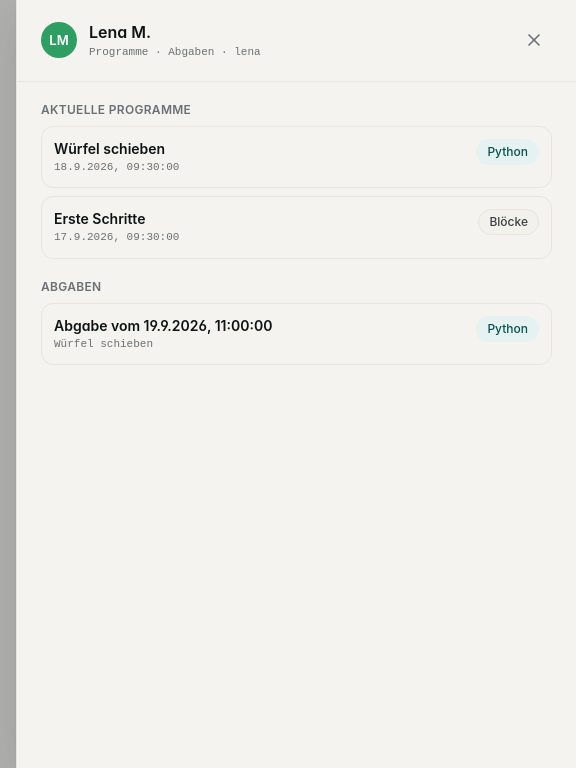
it: StudentProgramsDrawer — failures are German, never the raw message › a 404 on one program is its own German sentence
Expected: the element "Aktuelle Programme" is shown, [41,102,552,258]
Click the button "Würfel schieben 18.9.2026, 09:30:00 Python" at [110, 148], box [41,126,552,188]
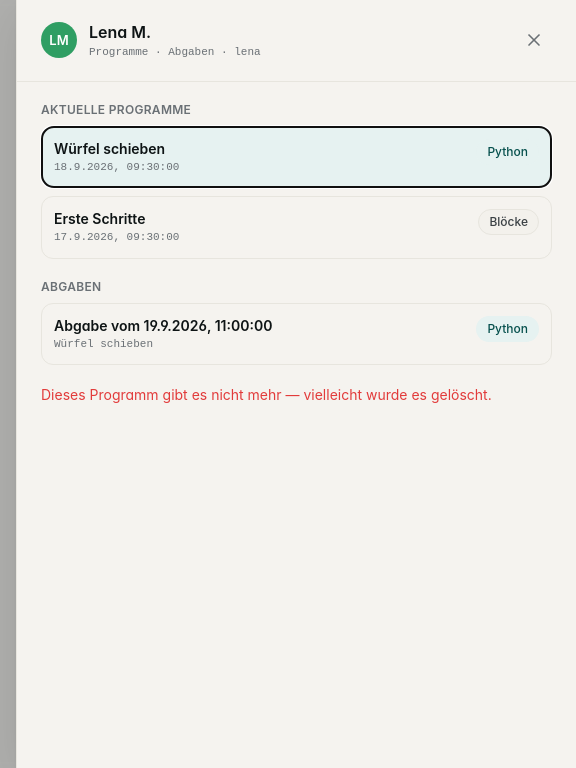
Expected: the text "Dieses Programm gibt es nicht mehr — vielleicht wurde es gelöscht." is shown, [41,385,552,405]
